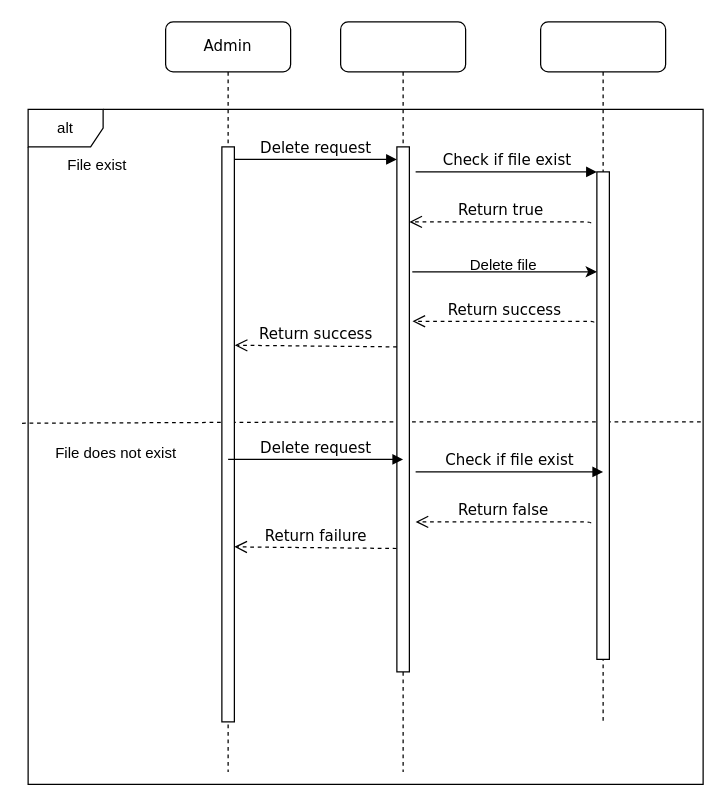
This 728x806 diagram has some shape labels left out. The shapes that lost their labels are listed below. From the top down, each one's box as (x1, y1, x2, y2) in pixels, then its label:
(539, 21, 666, 722): Database
(339, 21, 466, 772): Webserver
